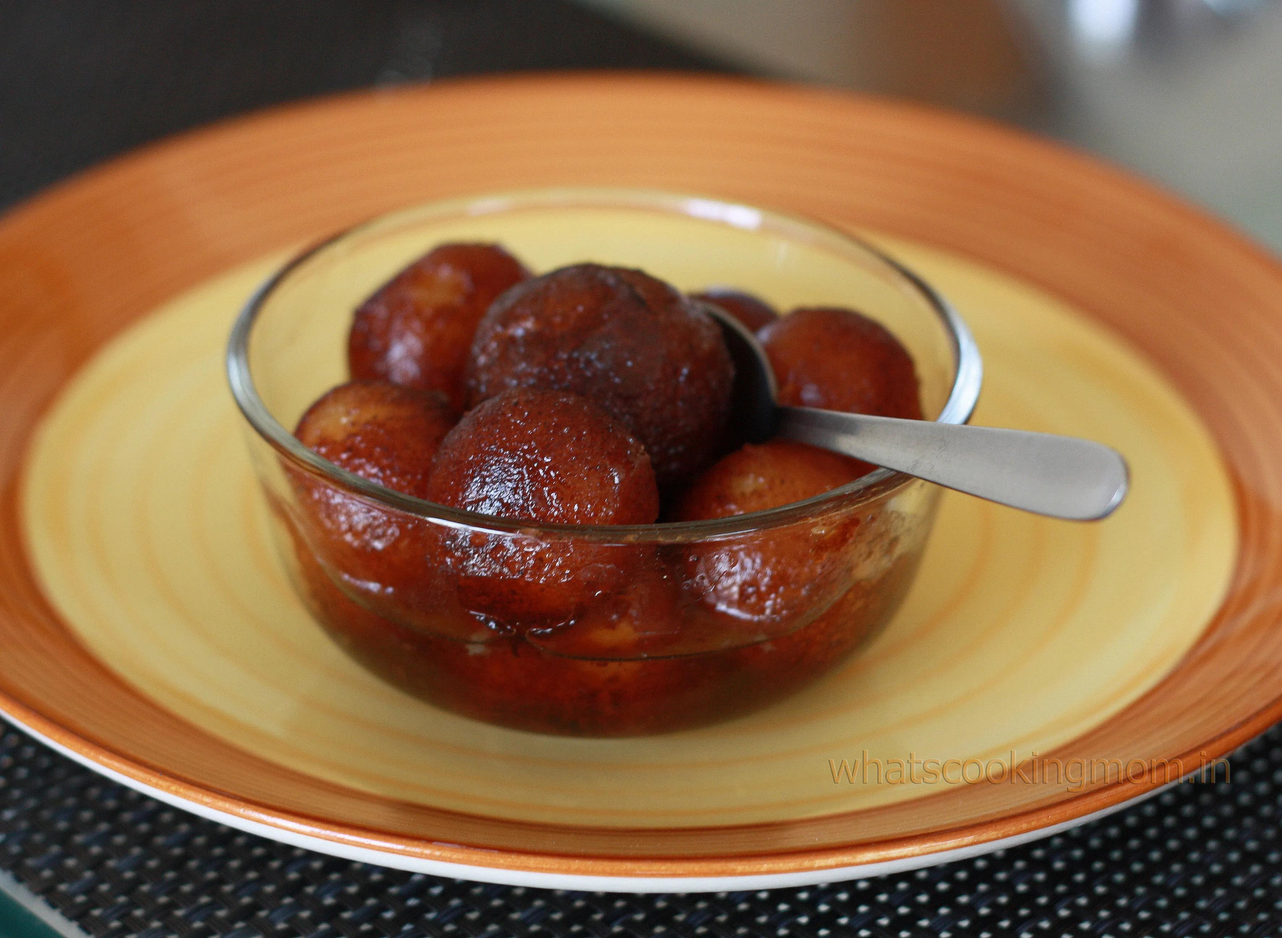GulabJamun: (428, 394, 656, 629), (475, 262, 729, 470), (668, 436, 892, 642), (281, 380, 451, 602), (343, 239, 534, 408), (764, 305, 933, 451), (686, 284, 785, 340)
